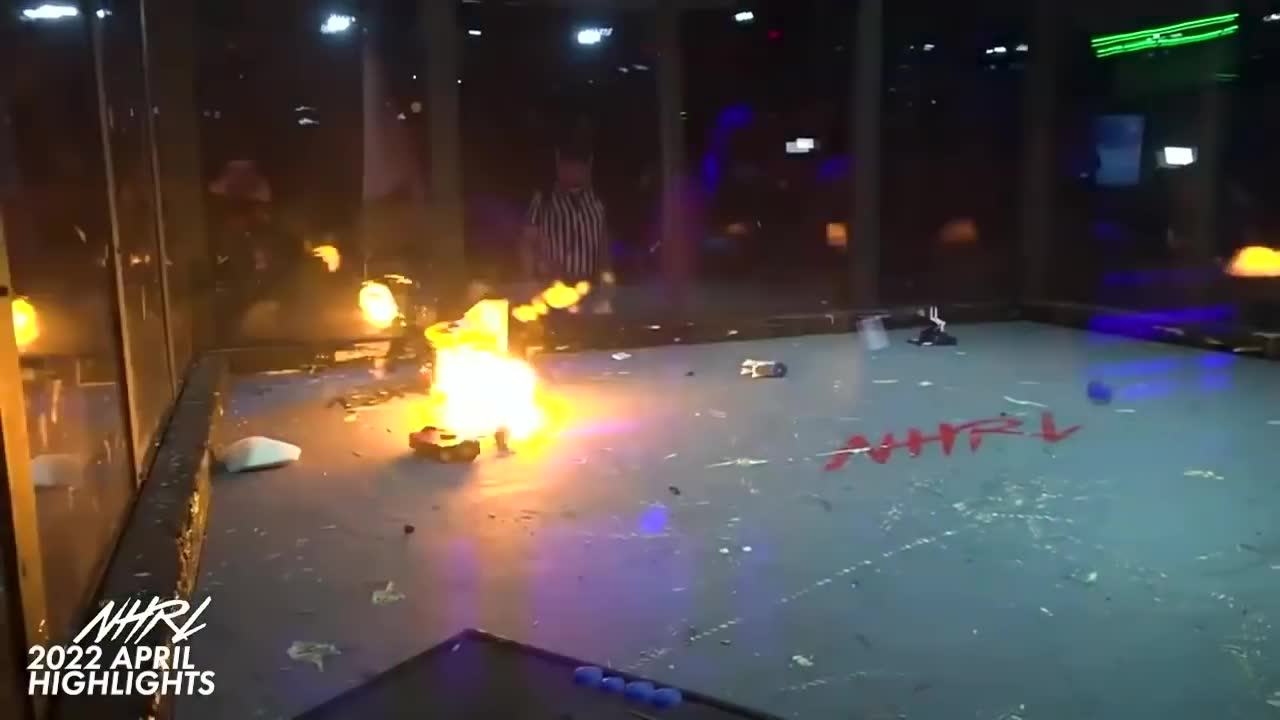combatbot: (407, 425, 480, 465), (907, 315, 963, 350), (737, 359, 789, 381)
debris: (212, 433, 303, 479), (1085, 378, 1116, 405)
wheel: (213, 434, 302, 478)
